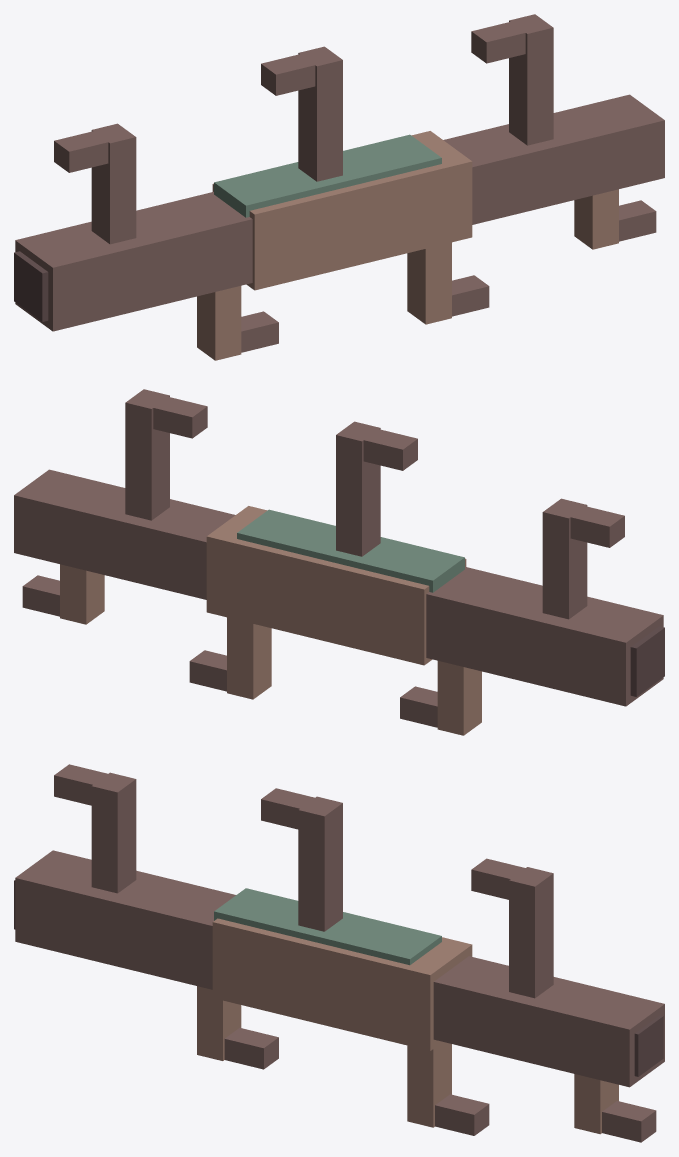
File: dead_branch.glb
3 renders of one model, top to bottom at view 1: azimuth 30°, elevation 25°; view 2: azimuth 150°, elevation 25°; view 3: azimuth 330°, elevation 25°, orthographic.
Visible parts, largest first — view 1: Moonpost Dead Branch Polished; view 2: Moonpost Dead Branch Polished; view 3: Moonpost Dead Branch Polished.
Part boxes in pixels (x1,y1,x2,y2): Moonpost Dead Branch Polished: [14, 14, 664, 360]; Moonpost Dead Branch Polished: [14, 389, 664, 735]; Moonpost Dead Branch Polished: [14, 764, 664, 1142].
Bounding box in the file's own units: 8.58 × 3.75 × 1.
